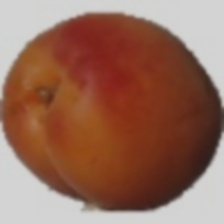apricot: (25, 0, 222, 197)
